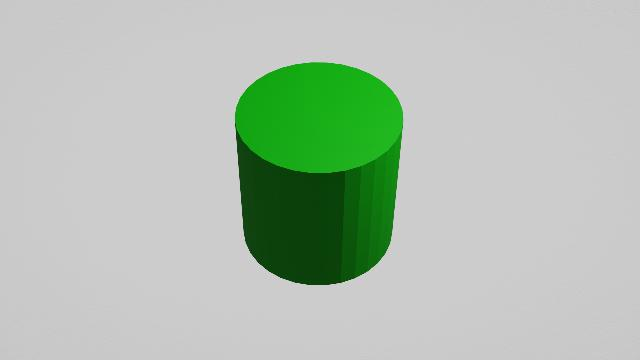Cylinder: (224, 57, 426, 302)
